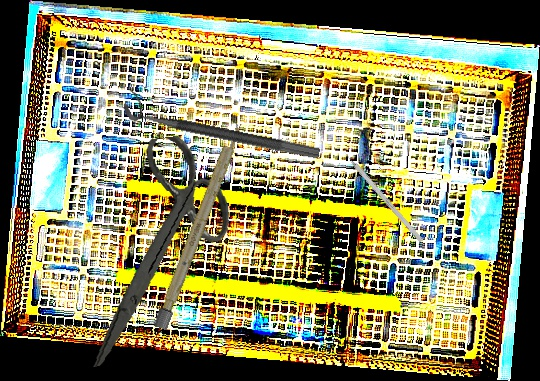Fixation Ring: (121, 89, 324, 161)
Hook Surgical: (338, 146, 424, 243)
Iris Scissors: (64, 130, 247, 368)
Scalpel Handle: (153, 121, 245, 331)
